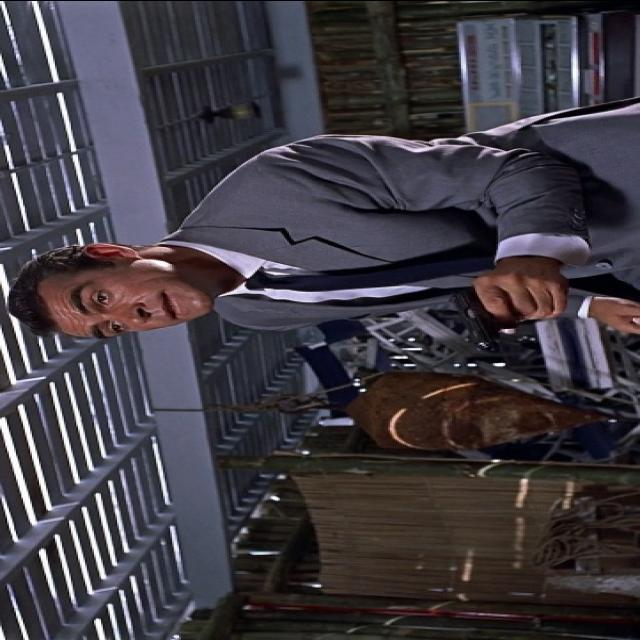weapons: (422, 274, 588, 366)
